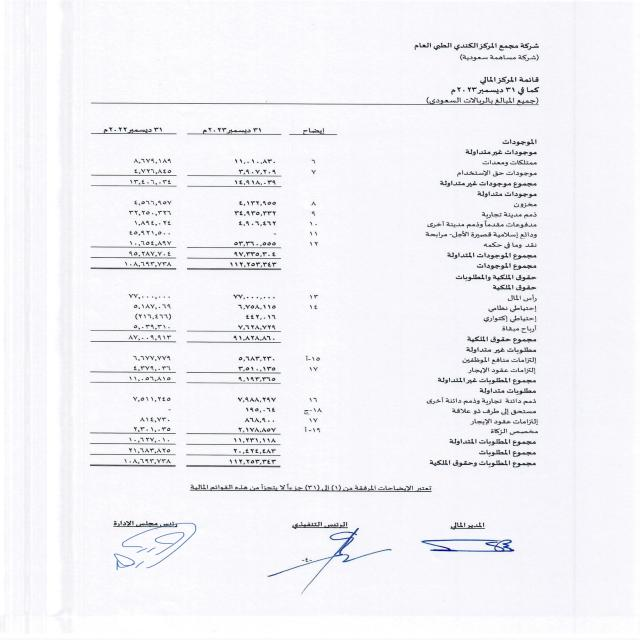financial_sheets: (480, 75, 540, 85)
table: (64, 119, 351, 474)
